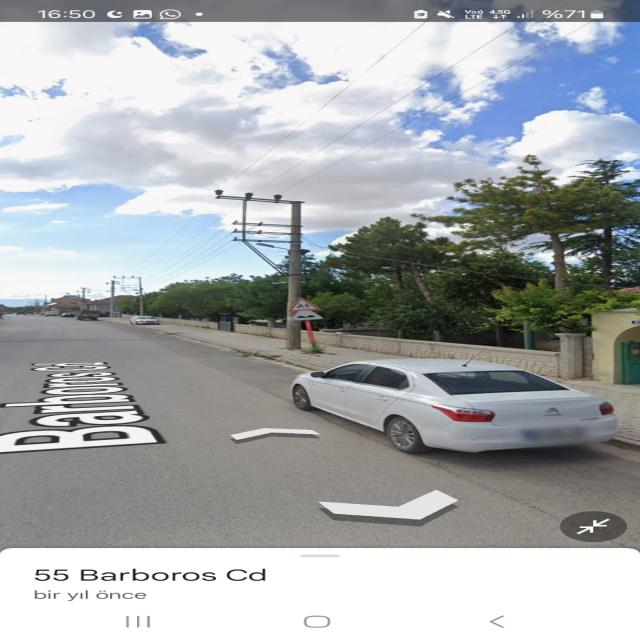okul_gecidi: (287, 297, 323, 312)
